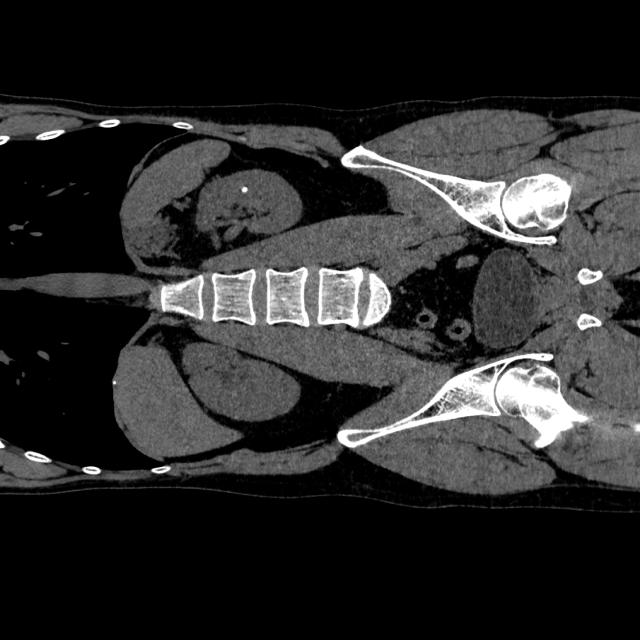kidneystone: (241, 185, 249, 191)
